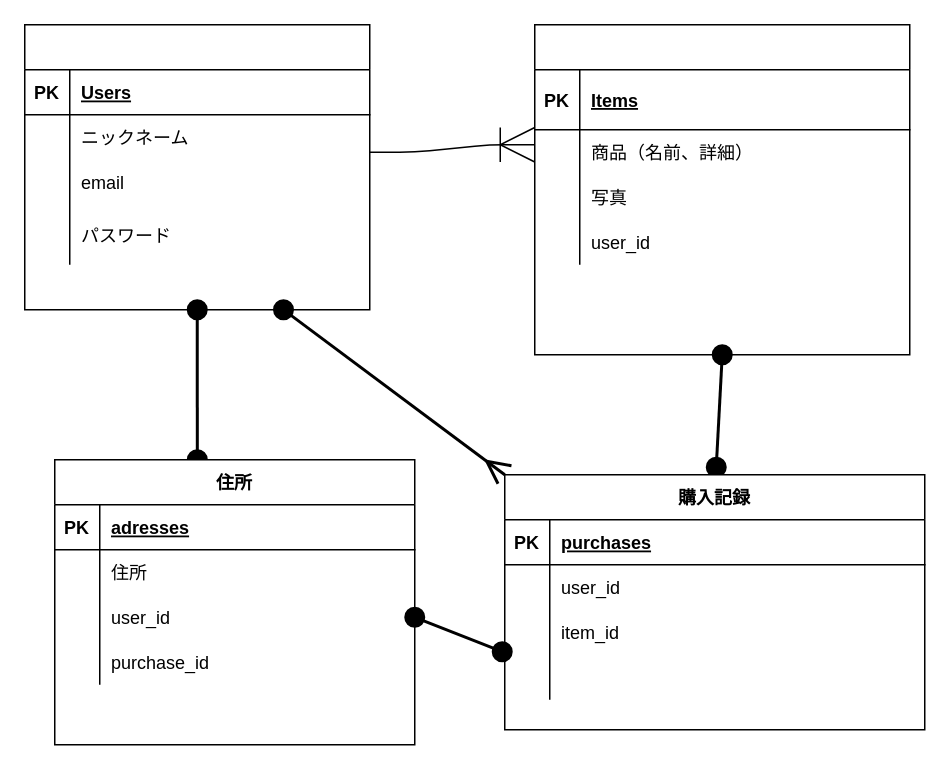
Image size: 950x770. Some labels were removed from this diagram. The box of each missing label's shape, as (x1, y1, x2, y2) in pixels:
利用者: (23, 23, 370, 310)
商品: (533, 23, 910, 355)
